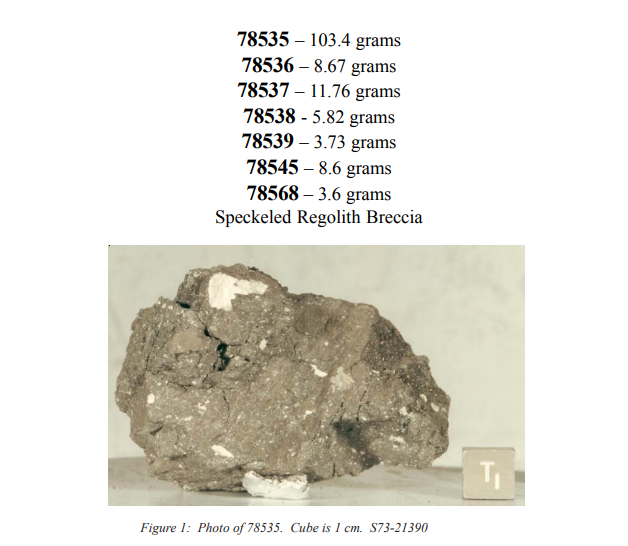Basalt: (107, 245, 458, 493)
